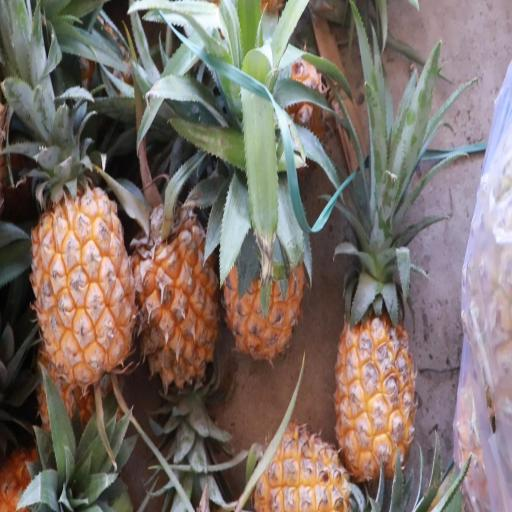Pineapple - v8 v1: (28, 155, 140, 388), (331, 246, 418, 488), (128, 194, 222, 396), (219, 164, 306, 366), (250, 411, 362, 512)
